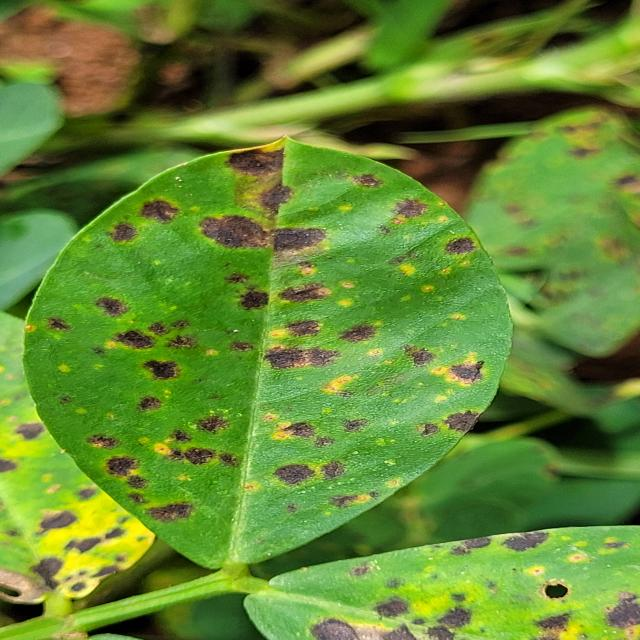Ground nut_tikka leaf spot: (22, 138, 529, 578)
